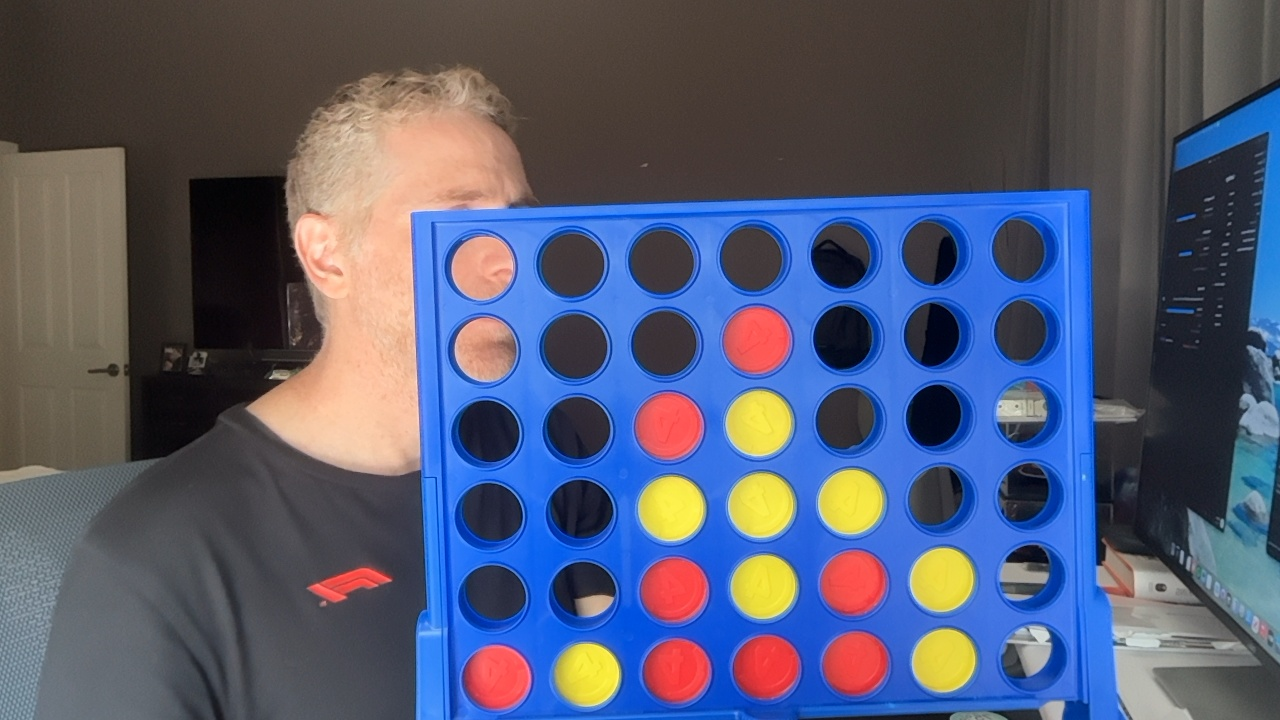red piece: (723, 306, 791, 374), (635, 392, 703, 460), (462, 645, 531, 711), (640, 557, 708, 623), (733, 635, 800, 701), (643, 639, 710, 704), (822, 631, 888, 696), (820, 550, 886, 615)
yellow piece: (725, 390, 793, 457), (638, 475, 705, 542), (730, 554, 797, 620), (728, 472, 795, 538), (554, 642, 620, 708), (818, 469, 884, 535), (910, 547, 975, 612), (912, 628, 976, 692)
